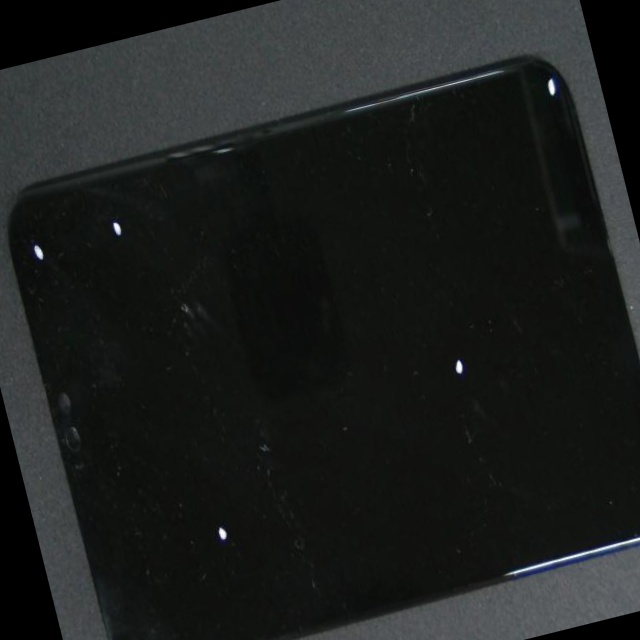stain: (187, 87, 640, 576), (70, 230, 344, 640), (226, 0, 615, 227), (9, 84, 191, 317), (0, 117, 82, 303)
